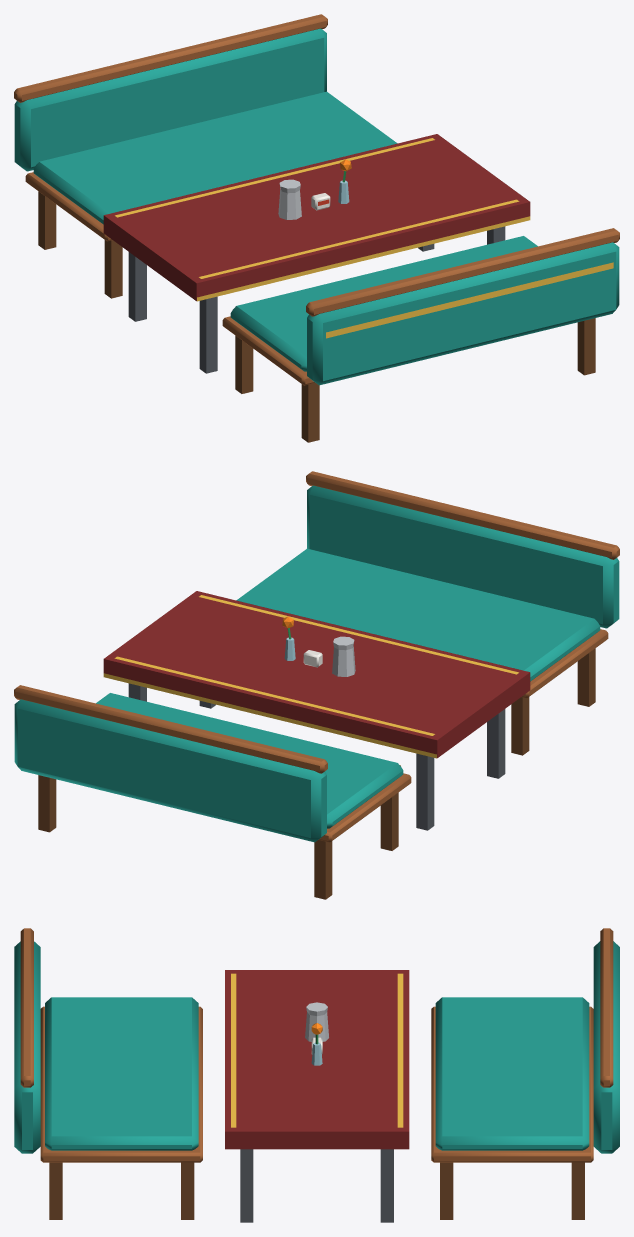
The model's file is family_table.glb.
The picture shows the model from 3 angles, top to bottom: view 1: azimuth 30°, elevation 25°; view 2: azimuth 150°, elevation 25°; view 3: azimuth 270°, elevation 25°; orthographic projection.
Parts seen in each view (by area): view 1: family_table; view 2: family_table; view 3: family_table.
Part boxes in pixels (x1,y1,x2,y2): family_table: [14, 14, 619, 442]; family_table: [14, 471, 619, 899]; family_table: [14, 928, 619, 1222].
Size of the model in its own units: 1.74 by 0.745 by 2.76.
1 material, 1 textured.
